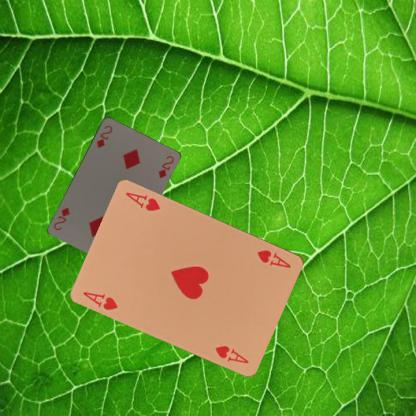2d: (94, 123, 113, 150)
Ah: (80, 289, 120, 311), (254, 247, 292, 270)
